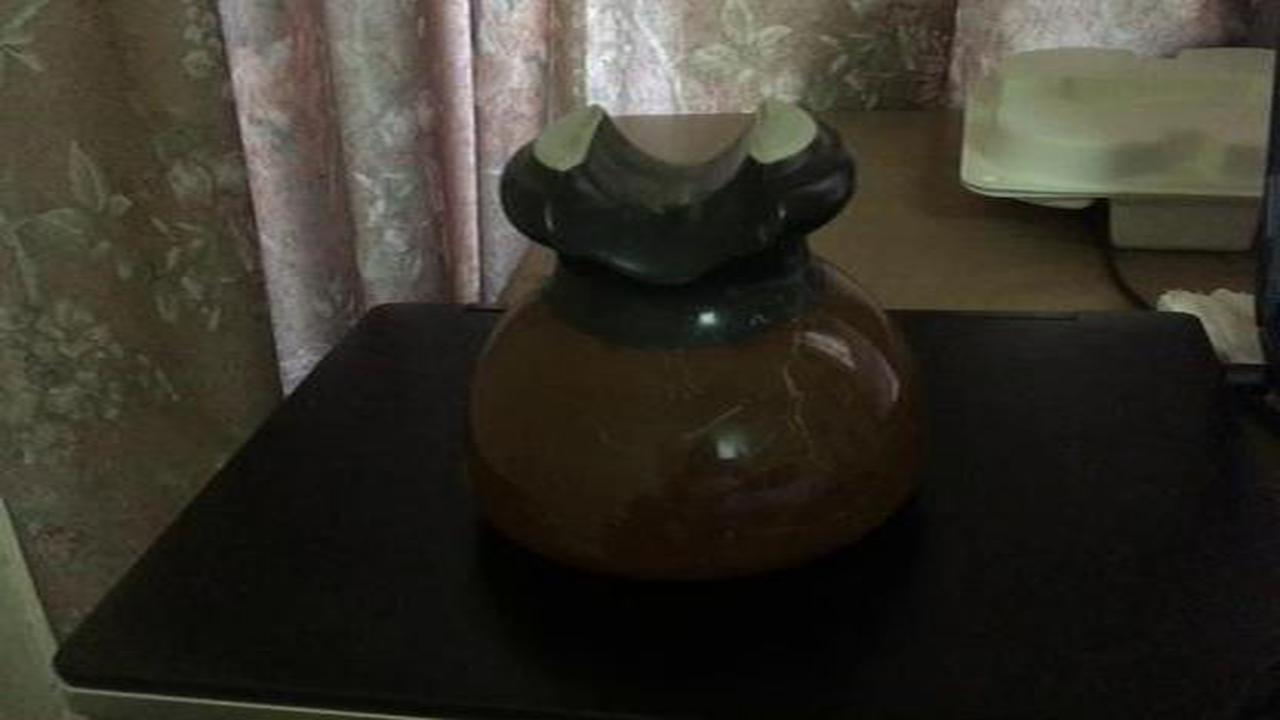insulator_pin: (431, 90, 954, 594)
